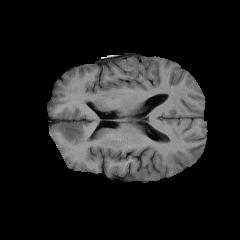glioma: (60, 123, 93, 144)
